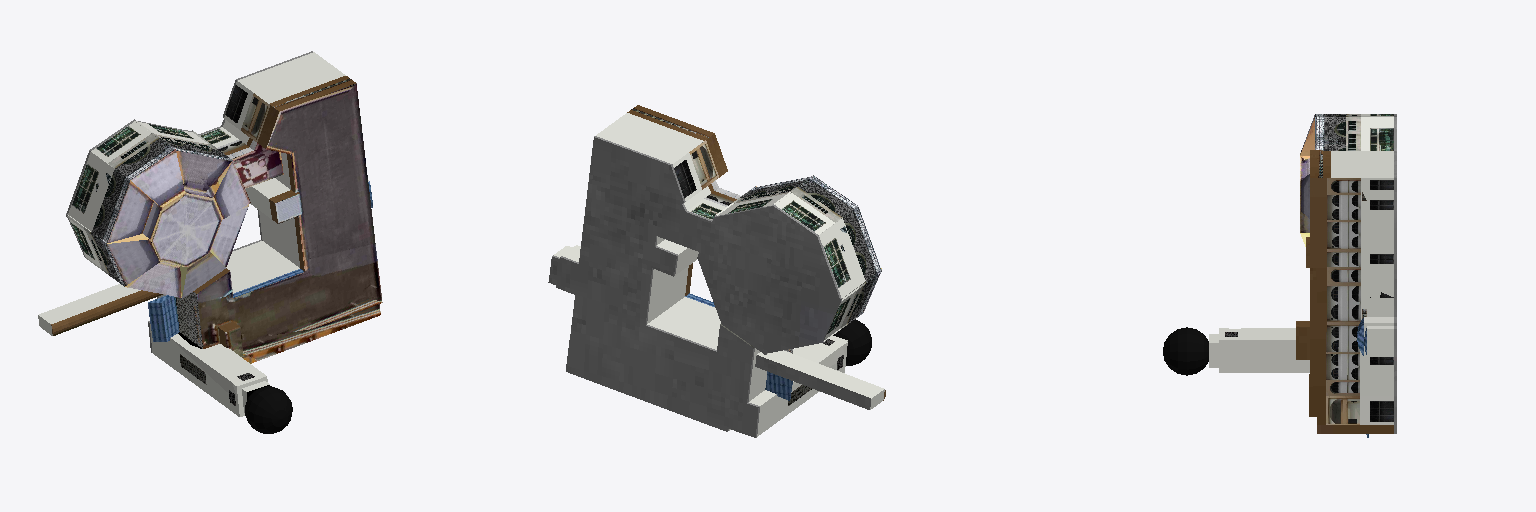
3 renders of one model, left to right at view 1: azimuth 30°, elevation 25°; view 2: azimuth 150°, elevation 25°; view 3: azimuth 270°, elevation 25°, orthographic.
Visible parts, largest first — view 1: polygon.881; view 2: polygon.881; view 3: polygon.881.
Boxes of the visible parts, x1,y1,x2,y2 form: polygon.881: [38, 51, 382, 433]; polygon.881: [548, 105, 885, 437]; polygon.881: [1163, 114, 1396, 437].
Size of the model in its own units: 61.09 by 48.59 by 38.62.
1 materials, 1 textured.